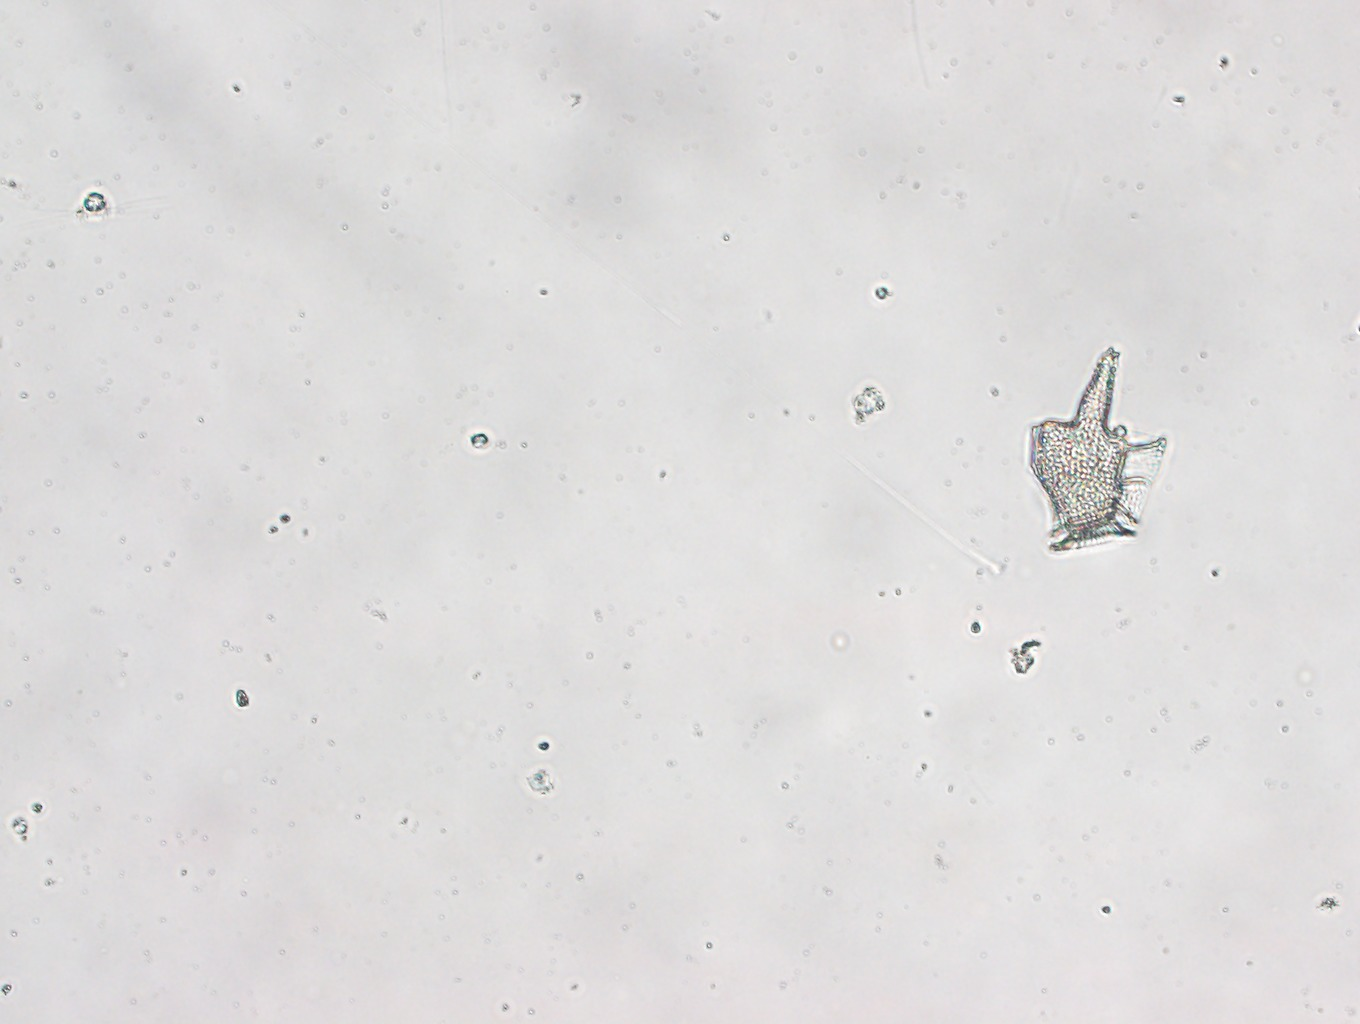dinophysis caudata: (1027, 347, 1166, 555)
